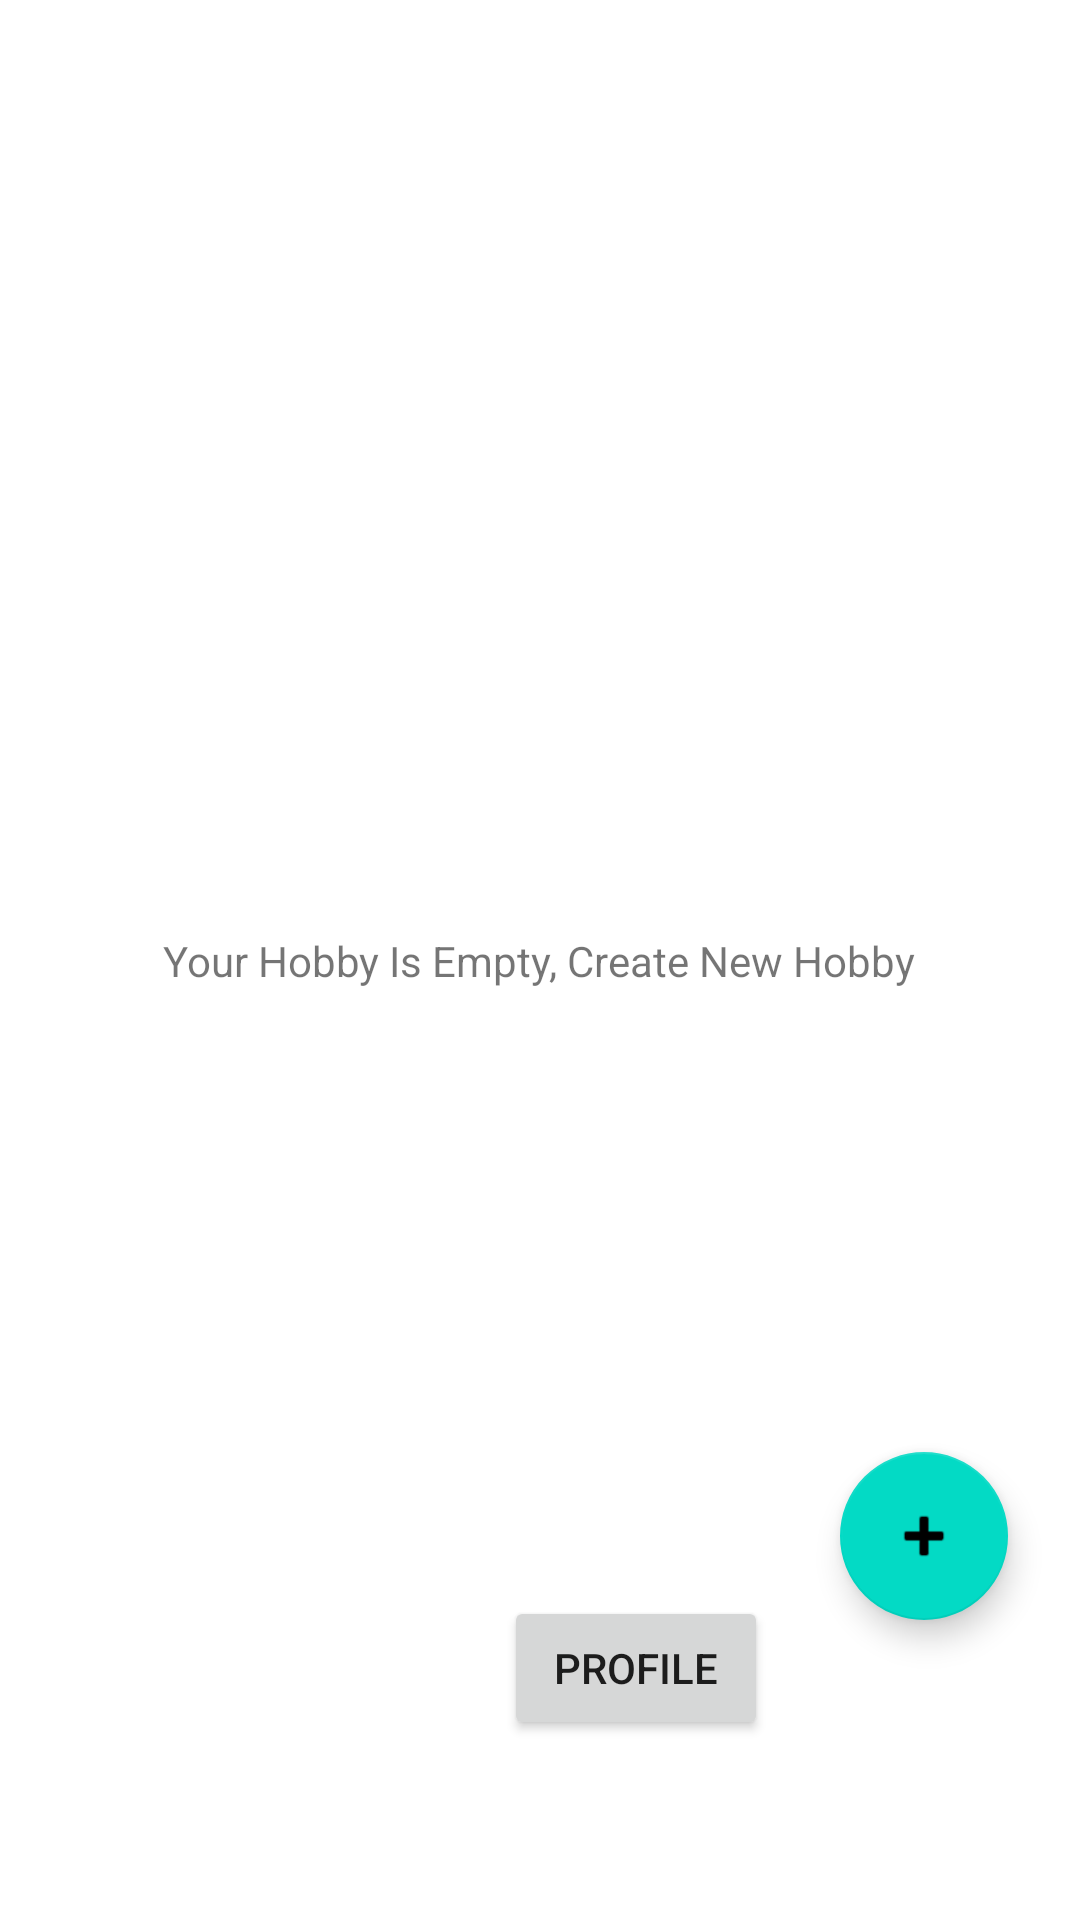

Locate icon controls on the screen. Image size 1080 x 1920, boxes as box(x1, y1, x2, y2).
add: box(840, 1452, 1008, 1620)
